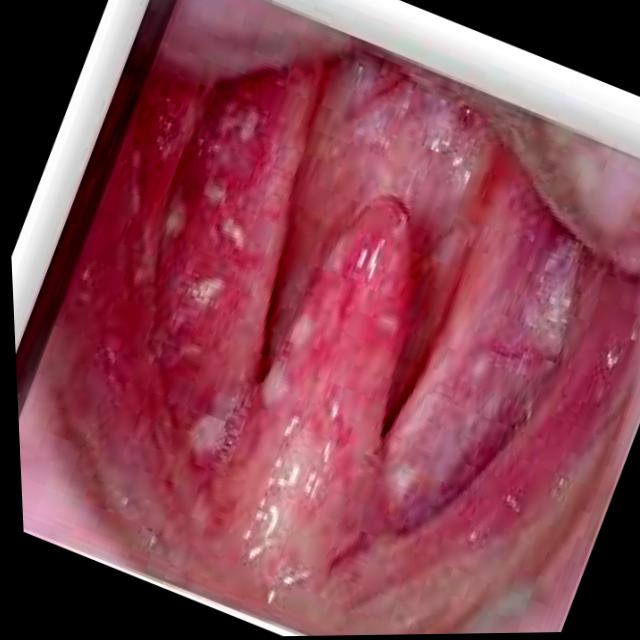ulcer: (121, 85, 262, 311), (257, 227, 356, 413), (190, 416, 226, 454)
